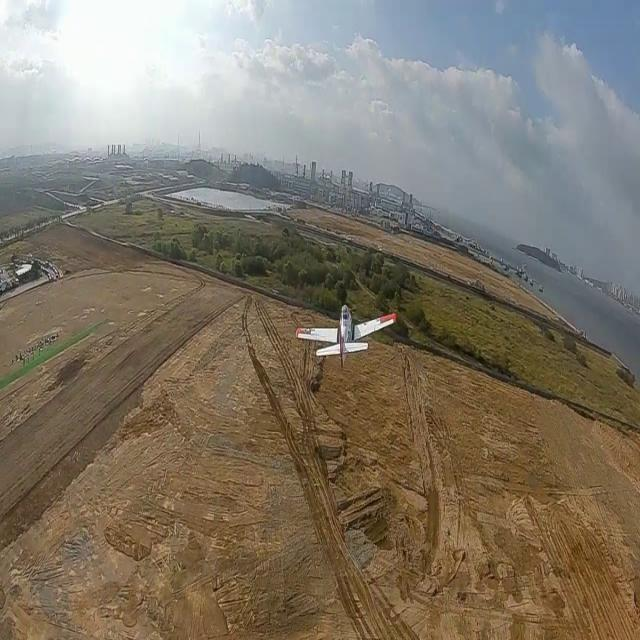iha: (328, 307, 371, 368)
